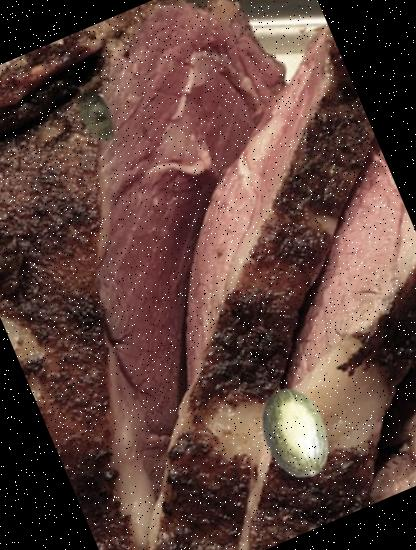Ginger: (61, 81, 133, 153)
Melon: (236, 374, 355, 494)
